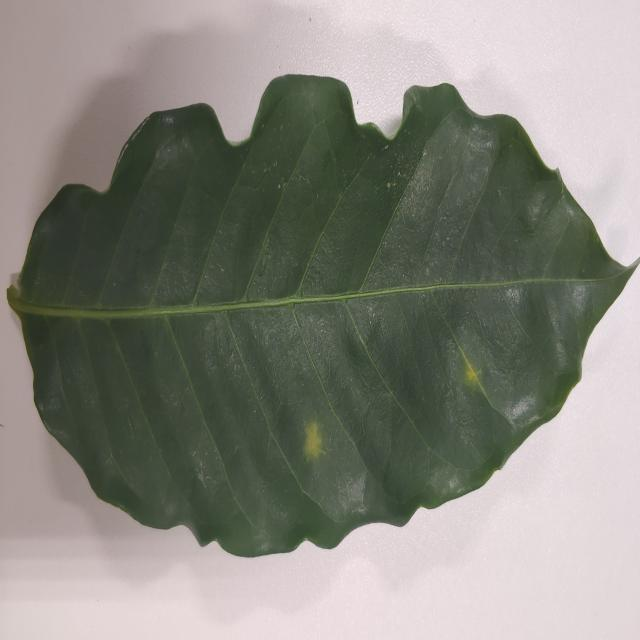Enfermedad-Roya: (7, 75, 640, 561)
